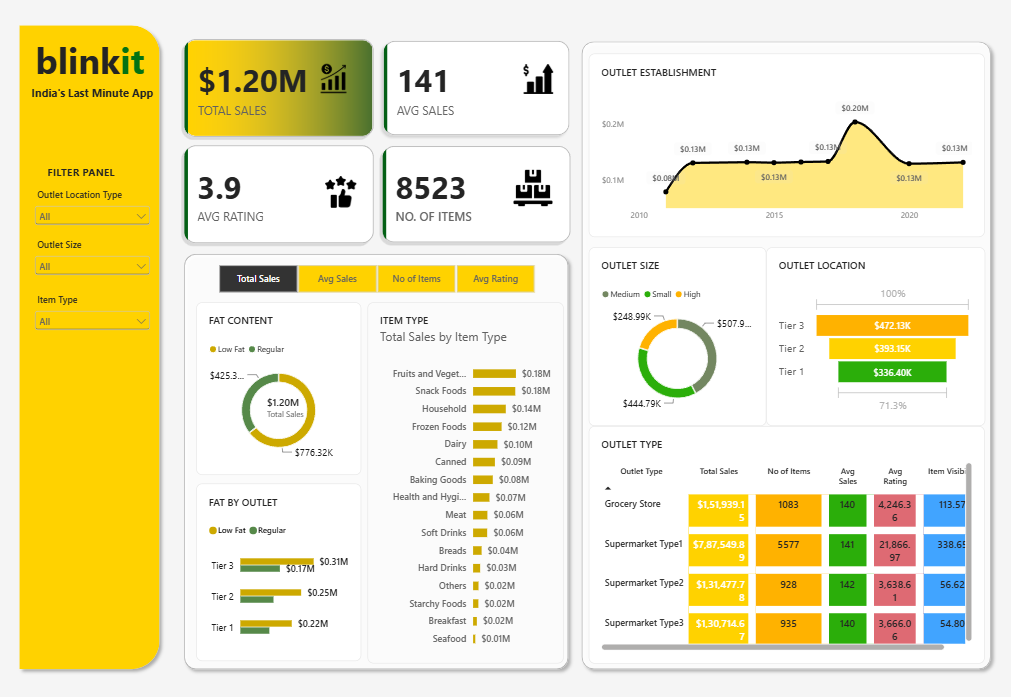

The page's visual inventory and layout, read from the dashboard file:
{"tool":"powerbi","page":{"name":"Page 1","canvas":[1350,1000],"ordinal":0},"visuals":[{"type":"shape","box":[16.7,30,205,876.7],"z":0},{"type":"textbox","box":[20,790,205,610],"z":1000},{"type":"textbox","box":[0,52,240,90],"z":2000},{"type":"textbox","box":[278,790,166,610],"z":3000},{"type":"textbox","box":[8,118,226,24],"z":4000},{"type":"cardVisual","fields":{"Data":["BlinkIT Grocery Data.Total Sales"]},"box":[240,52,264,142],"z":5000},{"type":"cardVisual","fields":{"Data":["BlinkIT Grocery Data.Avg Sales"]},"box":[504,52,264,142],"z":6000},{"type":"cardVisual","fields":{"Data":["Avg(BlinkIT Grocery Data.Avg Rating)"]},"box":[240,194,264,142],"z":7000},{"type":"cardVisual","fields":{"Data":["BlinkIT Grocery Data.No of Items"]},"box":[504,194,264,142],"z":8000},{"type":"image","box":[418,90,52,40],"z":9000},{"type":"image","box":[696,76,42,68],"z":10000},{"type":"image","box":[418,240,72,42],"z":11000},{"type":"image","box":[636,230,148,52],"z":12000},{"type":"shape","box":[236.7,335,530,571.7],"z":13000},{"type":"donutChart","title":"FAT CONTENT","fields":{"Category":["BlinkIT Grocery Data.Item Fat Content"],"Y":["BlinkIT Grocery Data.Total Sales"]},"box":[261.7,408.3,220,230],"z":14000},{"type":"slicer","fields":{"Values":["Metrics.Metrics"]},"box":[271.7,356.7,460,40],"z":15000},{"type":"cardVisual","fields":{"Data":["BlinkIT Grocery Data.Total Sales"]},"box":[340,523.3,103.3,50],"z":16000},{"type":"clusteredBarChart","title":"FAT BY OUTLET","fields":{"Category":["BlinkIT Grocery Data.Outlet Location Type"],"Series":["BlinkIT Grocery Data.Item Fat Content"],"Y":["BlinkIT Grocery Data.Total Sales"]},"box":[261.7,650,220,236.7],"z":17000},{"type":"barChart","title":"ITEM TYPE","fields":{"Category":["BlinkIT Grocery Data.Item Type"],"Y":["BlinkIT Grocery Data.Total Sales"]},"box":[490,408.3,261.7,481.7],"z":18000},{"type":"shape","box":[766.7,51.7,563.3,855],"z":18001},{"type":"lineChart","title":"OUTLET ESTABLISHMENT","fields":{"Category":["BlinkIT Grocery Data.Outlet Establishment Year"],"Y":["BlinkIT Grocery Data.Total Sales"]},"box":[785,76.7,528.3,245],"z":18002},{"type":"donutChart","title":"OUTLET SIZE","fields":{"Category":["BlinkIT Grocery Data.Outlet Size"],"Y":["BlinkIT Grocery Data.Total Sales"]},"box":[785,335,236.7,238.3],"z":18003},{"type":"funnel","title":"OUTLET LOCATION","fields":{"Category":["BlinkIT Grocery Data.Outlet Location Type"],"Y":["BlinkIT Grocery Data.Total Sales"]},"box":[1021.7,335,291.7,238.3],"z":18004},{"type":"pivotTable","title":"OUTLET TYPE","fields":{"Rows":["BlinkIT Grocery Data.Outlet Type"],"Values":["BlinkIT Grocery Data.Total Sales","BlinkIT Grocery Data.No of Items","BlinkIT Grocery Data.Avg Sales","Sum(BlinkIT Grocery Data.Avg Rating)","Sum(BlinkIT Grocery Data.Item Visibility)"]},"box":[785,573.3,528.3,316.7],"z":18005},{"type":"slicer","fields":{"Values":["BlinkIT Grocery Data.Outlet Size"]},"box":[41.7,323.3,163.3,53.3],"z":18007},{"type":"slicer","fields":{"Values":["BlinkIT Grocery Data.Item Type"]},"box":[41,397,163.3,53.3],"z":18008},{"type":"slicer","fields":{"Values":["BlinkIT Grocery Data.Outlet Location Type"]},"box":[42,256,163.3,53.3],"z":18009},{"type":"textbox","box":[64,225,110,31],"z":18010}]}

Visuals, with their boxes on the page's 1350x1000 design canvas (x1, y1, x2, y2). These are canvas units, not pixel positions in the 1011x697 screenshot, which may show the page scaled, cropped or inside an application window:
shape: x1=17, y1=30, x2=222, y2=907
textbox: x1=20, y1=790, x2=225, y2=1400
textbox: x1=0, y1=52, x2=240, y2=142
textbox: x1=278, y1=790, x2=444, y2=1400
textbox: x1=8, y1=118, x2=234, y2=142
cardVisual - BlinkIT Grocery Data.Total Sales: x1=240, y1=52, x2=504, y2=194
cardVisual - BlinkIT Grocery Data.Avg Sales: x1=504, y1=52, x2=768, y2=194
cardVisual - Avg(BlinkIT Grocery Data.Avg Rating): x1=240, y1=194, x2=504, y2=336
cardVisual - BlinkIT Grocery Data.No of Items: x1=504, y1=194, x2=768, y2=336
image: x1=418, y1=90, x2=470, y2=130
image: x1=696, y1=76, x2=738, y2=144
image: x1=418, y1=240, x2=490, y2=282
image: x1=636, y1=230, x2=784, y2=282
shape: x1=237, y1=335, x2=767, y2=907
"FAT CONTENT" donutChart: x1=262, y1=408, x2=482, y2=638
slicer - Metrics.Metrics: x1=272, y1=357, x2=732, y2=397
cardVisual - BlinkIT Grocery Data.Total Sales: x1=340, y1=523, x2=443, y2=573
"FAT BY OUTLET" clusteredBarChart: x1=262, y1=650, x2=482, y2=887
"ITEM TYPE" barChart: x1=490, y1=408, x2=752, y2=890
shape: x1=767, y1=52, x2=1330, y2=907
"OUTLET ESTABLISHMENT" lineChart: x1=785, y1=77, x2=1313, y2=322
"OUTLET SIZE" donutChart: x1=785, y1=335, x2=1022, y2=573
"OUTLET LOCATION" funnel: x1=1022, y1=335, x2=1313, y2=573
"OUTLET TYPE" pivotTable: x1=785, y1=573, x2=1313, y2=890
slicer - BlinkIT Grocery Data.Outlet Size: x1=42, y1=323, x2=205, y2=377
slicer - BlinkIT Grocery Data.Item Type: x1=41, y1=397, x2=204, y2=450
slicer - BlinkIT Grocery Data.Outlet Location Type: x1=42, y1=256, x2=205, y2=309
textbox: x1=64, y1=225, x2=174, y2=256
